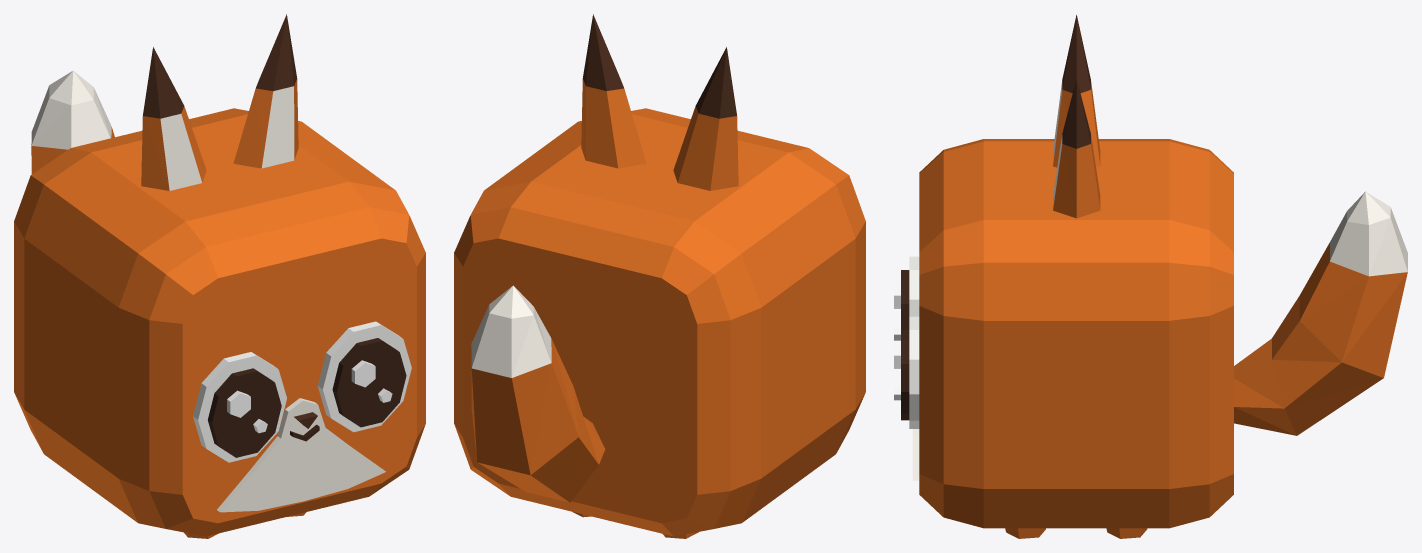
Rendered from fox-pet-v2.glb.
The picture shows the model from 3 angles, left to right: view 1: azimuth 30°, elevation 25°; view 2: azimuth 150°, elevation 25°; view 3: azimuth 270°, elevation 25°; orthographic projection.
Visible parts, largest first — view 1: Body, AccentWhite, Pupil, EyeWhite, AccentDark, EyeShine; view 2: Body, AccentWhite, AccentDark; view 3: Body, AccentWhite, AccentDark, EyeWhite, Pupil.
Part boxes in pixels (<box>): Body: <box>14,78,425,538</box>; AccentWhite: <box>31,70,385,512</box>; Pupil: <box>208,338,406,457</box>; EyeWhite: <box>193,321,411,462</box>; AccentDark: <box>143,14,317,428</box>; EyeShine: <box>227,360,392,433</box>; Body: <box>454,78,865,538</box>; AccentWhite: <box>471,285,551,377</box>; AccentDark: <box>583,14,736,118</box>; Body: <box>919,81,1407,538</box>; AccentWhite: <box>912,81,1407,480</box>; AccentDark: <box>1062,15,1090,148</box>; EyeWhite: <box>909,256,919,428</box>; Pupil: <box>901,270,909,420</box>.
Bounding box in the file's own units: 2 × 3.03 × 3.04.
